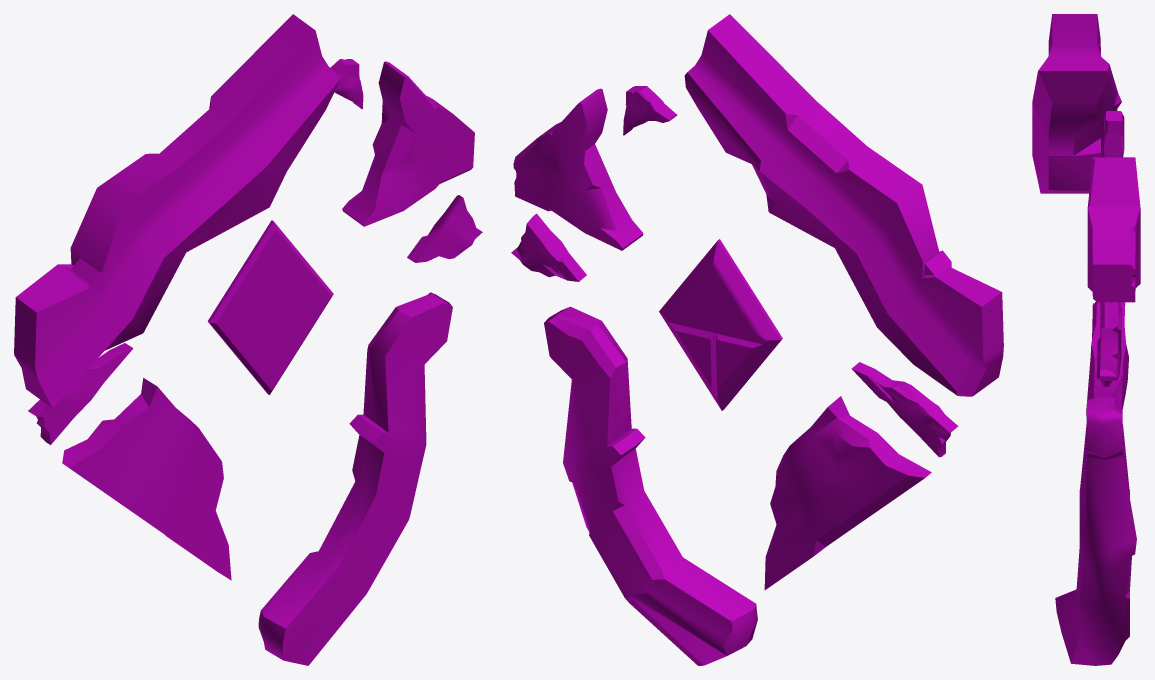
The model's file is Portal_Group.fbx.
3 views of the same model, side by side, from view 1: azimuth 30°, elevation 25°; view 2: azimuth 150°, elevation 25°; view 3: azimuth 270°, elevation 25° (orthographic). The views are drawn at different scales.
Parts seen in each view (by area): view 1: MESH_Portal_3, MESH_Portal_6, MESH_Portal_5, MESH_Portal_1, MESH_Portal_8, MESH_Portal_4, MESH_Portal_7, MESH_Portal_2; view 2: MESH_Portal_3, MESH_Portal_6, MESH_Portal_5, MESH_Portal_1, MESH_Portal_8, MESH_Portal_4, MESH_Portal_7, MESH_Portal_2; view 3: MESH_Portal_6, MESH_Portal_3, MESH_Portal_8, MESH_Portal_5, MESH_Portal_7, MESH_Portal_2, MESH_Portal_1.
Part boxes in pixels (<box>): MESH_Portal_3: <box>14,14,341,408</box>; MESH_Portal_6: <box>258,292,452,665</box>; MESH_Portal_5: <box>62,378,231,580</box>; MESH_Portal_1: <box>207,220,333,394</box>; MESH_Portal_8: <box>342,61,474,226</box>; MESH_Portal_4: <box>28,343,133,444</box>; MESH_Portal_7: <box>407,195,482,262</box>; MESH_Portal_2: <box>330,59,363,108</box>; MESH_Portal_3: <box>684,14,1003,396</box>; MESH_Portal_6: <box>544,306,757,665</box>; MESH_Portal_5: <box>764,396,931,590</box>; MESH_Portal_1: <box>659,239,782,410</box>; MESH_Portal_8: <box>513,88,643,250</box>; MESH_Portal_4: <box>851,362,958,457</box>; MESH_Portal_7: <box>511,213,586,281</box>; MESH_Portal_2: <box>623,86,677,135</box>; MESH_Portal_6: <box>1055,395,1136,665</box>; MESH_Portal_3: <box>1032,14,1121,193</box>; MESH_Portal_8: <box>1087,157,1140,302</box>; MESH_Portal_5: <box>1086,302,1128,420</box>; MESH_Portal_7: <box>1096,328,1120,380</box>; MESH_Portal_2: <box>1104,111,1124,157</box>; MESH_Portal_1: <box>1100,302,1121,386</box>.
Size of the model in its own units: 29.43 by 38.47 by 5.8.
